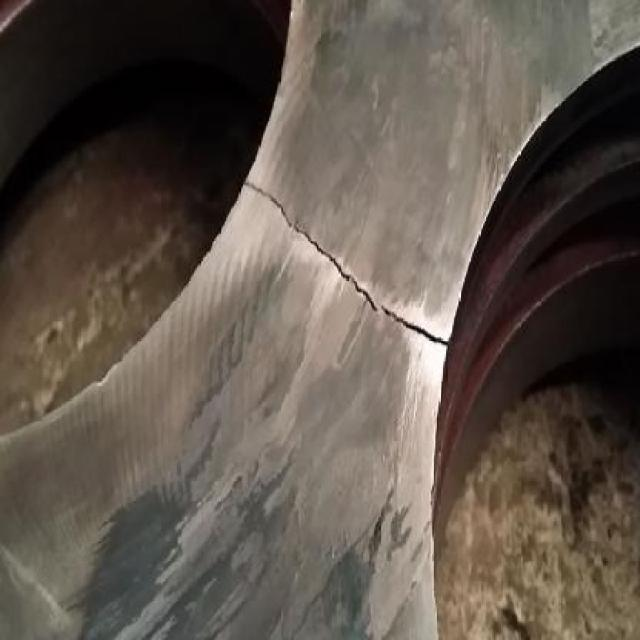crack: (240, 169, 460, 364)
